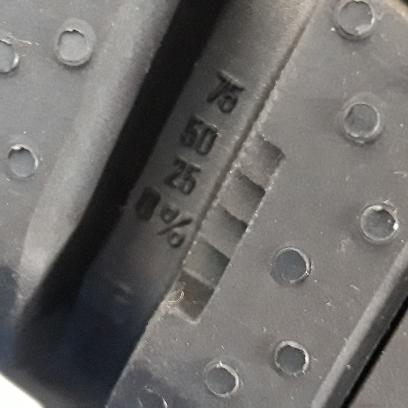temoin:100: (158, 101, 290, 326)
